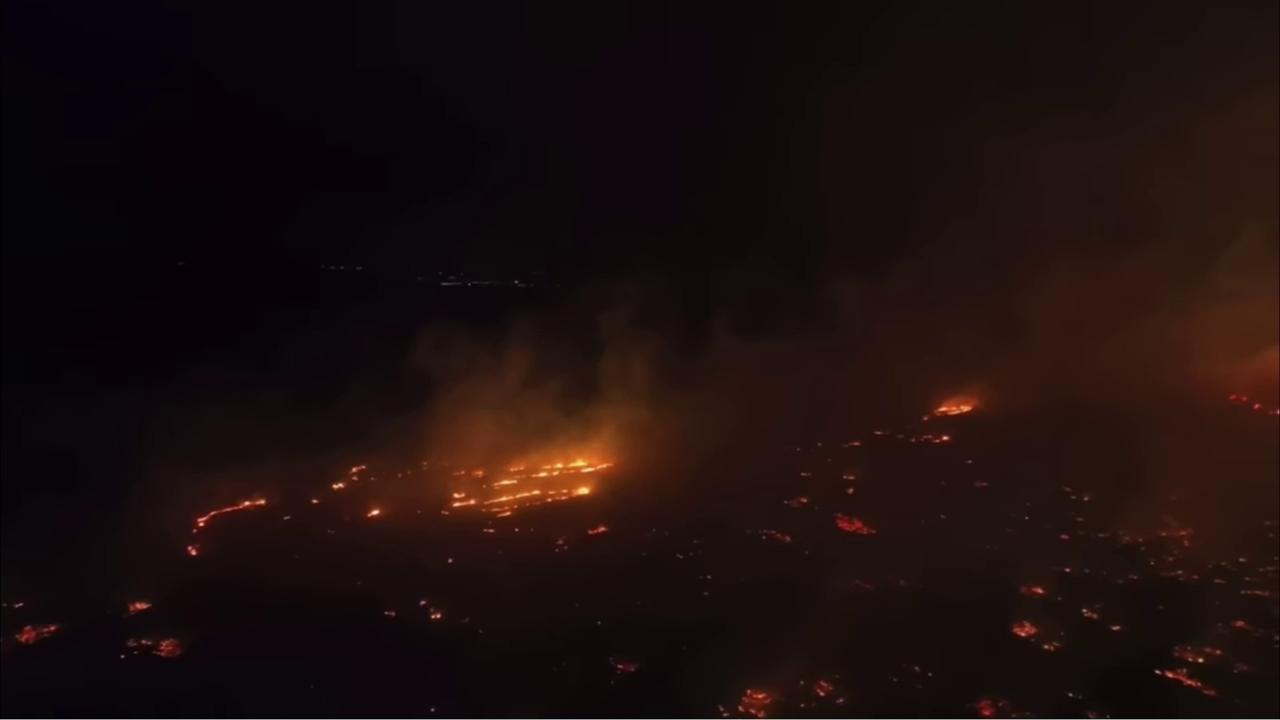fire: (441, 457, 620, 521), (187, 497, 268, 533), (1153, 664, 1222, 700), (1003, 616, 1067, 653), (717, 686, 775, 718), (1171, 634, 1224, 667), (834, 509, 879, 538), (13, 622, 56, 650), (965, 694, 1006, 719), (931, 396, 975, 419), (751, 526, 795, 545), (152, 636, 187, 659), (609, 654, 641, 676), (1157, 526, 1198, 540), (1018, 582, 1049, 600), (814, 675, 835, 701), (126, 599, 153, 618), (783, 492, 811, 509), (347, 463, 367, 481), (185, 543, 202, 562), (586, 524, 610, 537), (1233, 661, 1252, 677), (1081, 605, 1100, 621), (1237, 590, 1274, 598), (365, 505, 383, 521), (1229, 392, 1249, 403), (843, 439, 864, 449), (1229, 618, 1247, 629), (427, 611, 443, 623), (841, 472, 858, 482), (331, 482, 346, 492), (1058, 533, 1074, 542), (843, 486, 858, 495), (1108, 624, 1122, 633), (1252, 401, 1264, 409), (1064, 565, 1074, 574), (312, 496, 320, 506), (1273, 409, 1280, 416)
smoke: (109, 30, 1280, 627)
